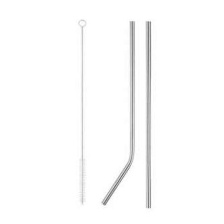drinking_straw: (98, 18, 137, 210), (142, 18, 156, 213)
